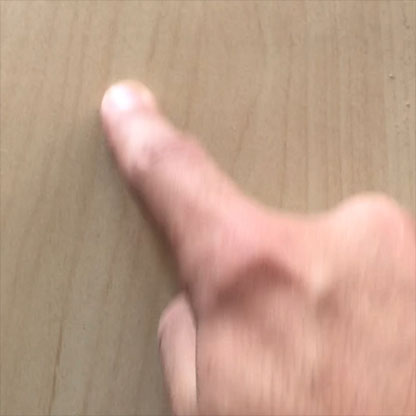fingertip: (98, 68, 159, 122)
